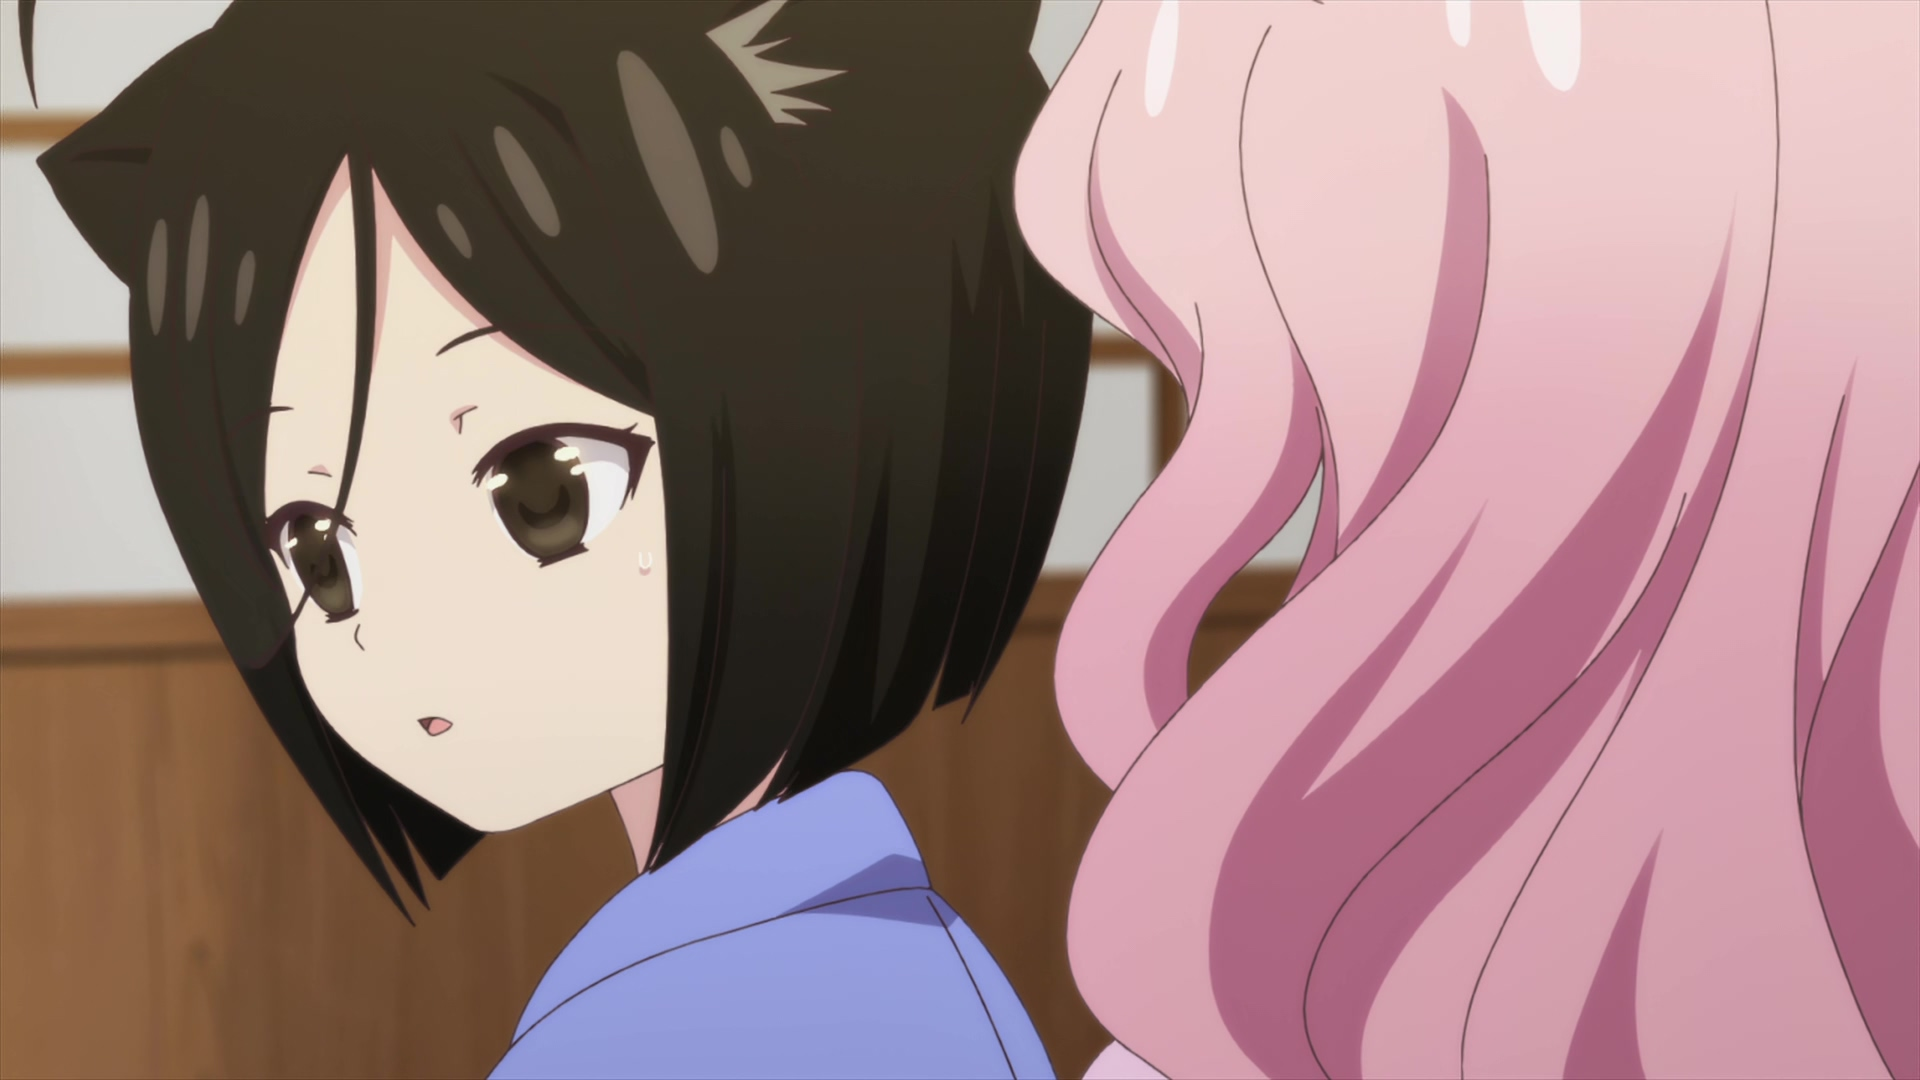其他: (18, 1, 1095, 1080)
莲: (1011, 1, 1920, 1080)
